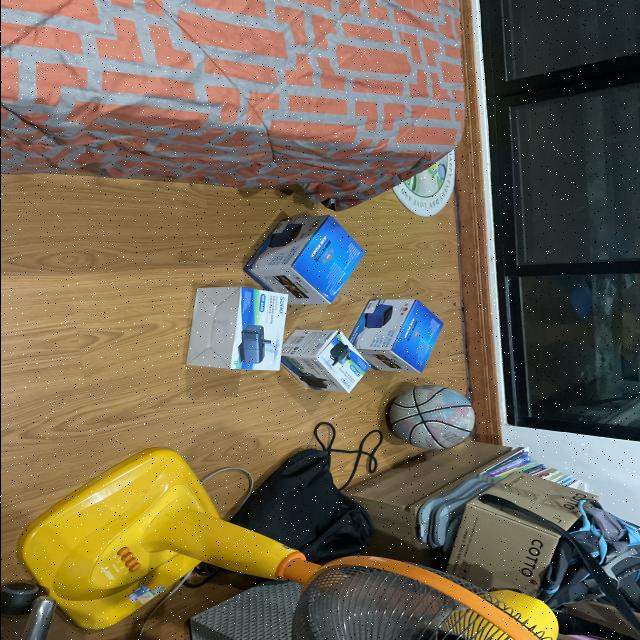SOBO_WP_4200: (181, 281, 295, 388), (264, 312, 376, 414)
YAMANO_LPP_20: (236, 210, 365, 303), (339, 288, 448, 376)
